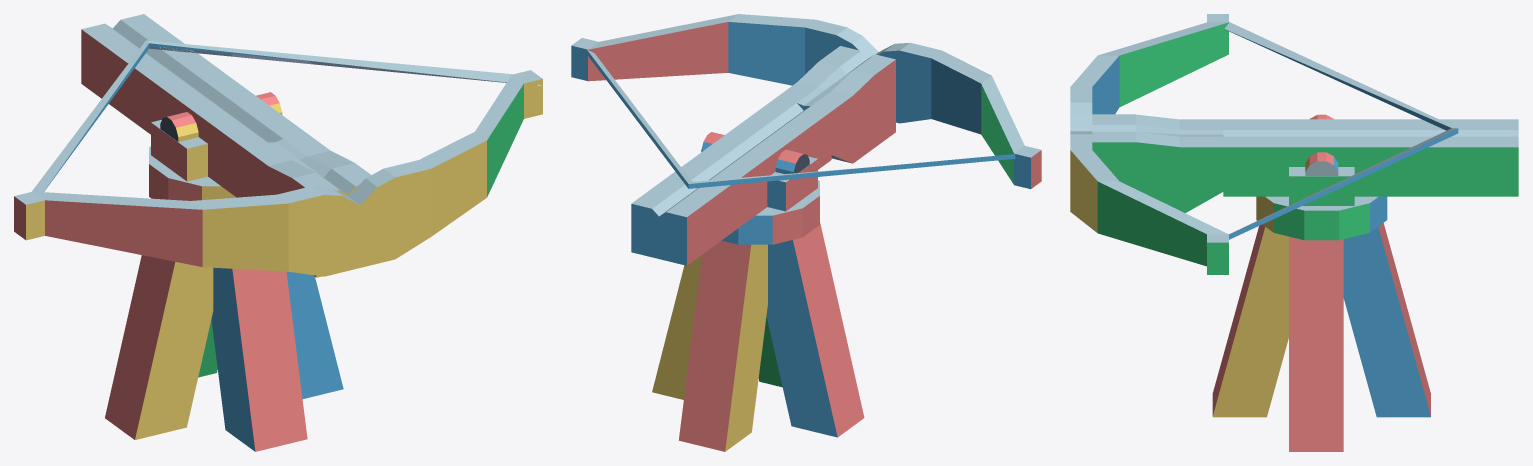
The model's file is Kusza.obj.
The picture shows the model from 3 angles, left to right: view 1: azimuth 30°, elevation 25°; view 2: azimuth 150°, elevation 25°; view 3: azimuth 270°, elevation 25°; orthographic projection. The views are drawn at different scales.
Visible parts, largest first — view 1: cuboid, cylinder; view 2: cuboid, cylinder; view 3: cuboid, cylinder.
Part boxes in pixels (x1,y1,x2,y2): cuboid: (14,14,542,451); cylinder: (149,92,282,200); cuboid: (571,14,1041,451); cylinder: (701,132,819,244); cuboid: (1070,14,1518,451); cylinder: (1256,114,1387,240).
Bounding box in the file's own units: 0.6187 × 0.3625 × 0.5125.
Materials: 1 (1 with a texture image).
